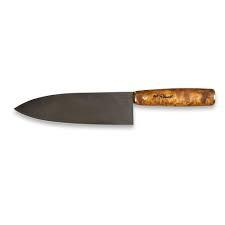Knife: (13, 87, 215, 125)
